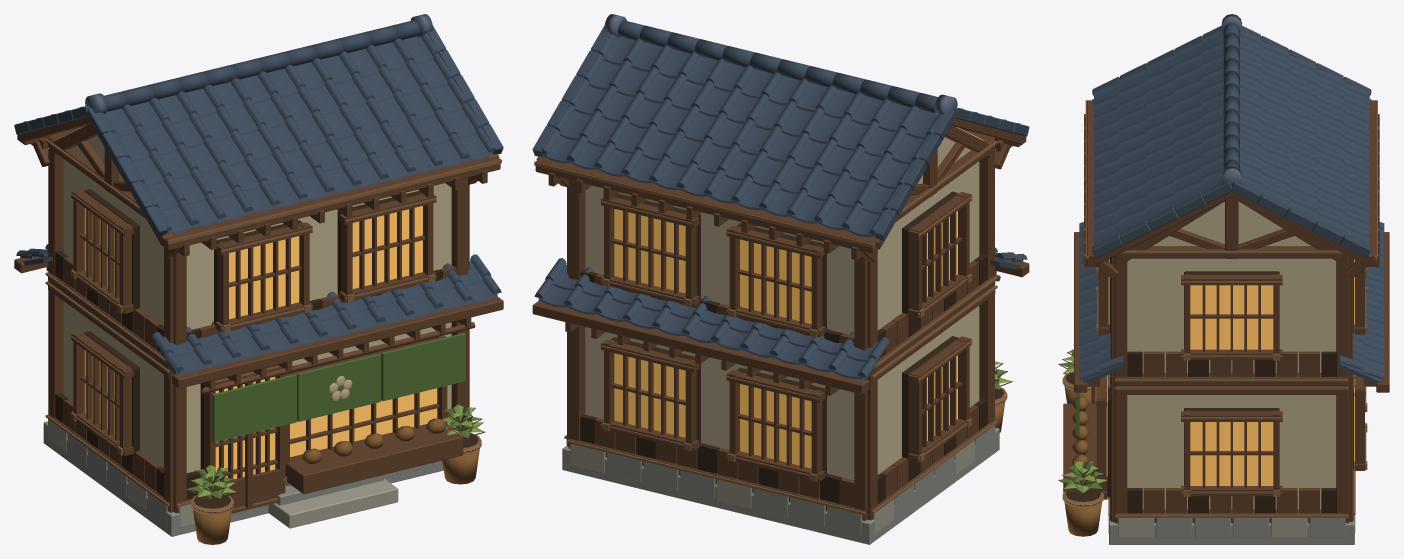
3 renders of one model, left to right at view 1: azimuth 30°, elevation 25°; view 2: azimuth 150°, elevation 25°; view 3: azimuth 270°, elevation 25°, orthographic. The views are drawn at different scales.
Parts seen in each view (by area): view 1: compact_shop_2_geometry, compact_shop_2_geometry ceramic; view 2: compact_shop_2_geometry, compact_shop_2_geometry ceramic; view 3: compact_shop_2_geometry, compact_shop_2_geometry ceramic.
Boxes of the visible parts, x1=… form: compact_shop_2_geometry: x1=14, y1=37, x2=503, y2=544; compact_shop_2_geometry ceramic: x1=14, y1=14, x2=503, y2=375; compact_shop_2_geometry: x1=532, y1=37, x2=1029, y2=544; compact_shop_2_geometry ceramic: x1=532, y1=14, x2=1029, y2=380; compact_shop_2_geometry: x1=1058, y1=49, x2=1389, y2=544; compact_shop_2_geometry ceramic: x1=1079, y1=14, x2=1384, y2=383.
Bounding box in the file's own units: 0.99 × 1.09 × 0.8597.
